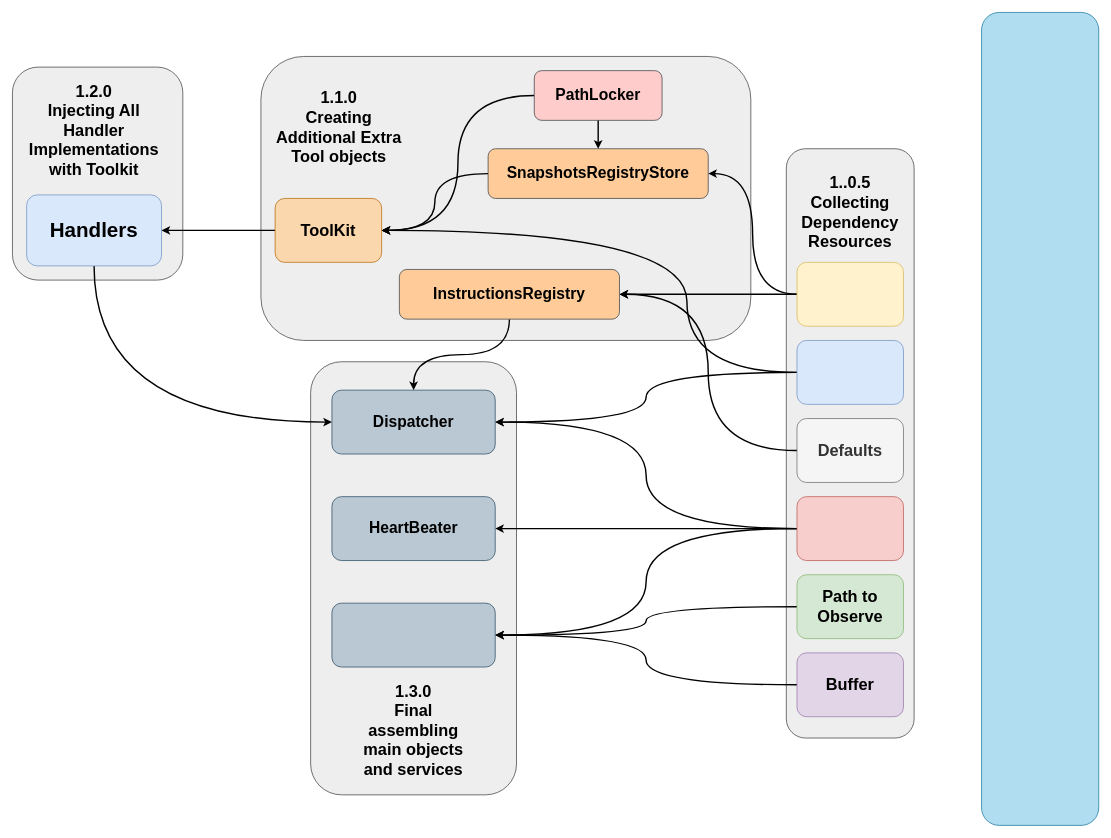
Some shapes in this 1111 by 838 pixel diagram are drawn without their labels. The shapes that lost their labels are listed below. From the top down, each one's centre as x and y in pixels, then its label:
At (x=849, y=294): "Registries Path".
At (x=849, y=372): "Ignore Paths".
At (x=1040, y=418): "Assembly Phase".
At (x=849, y=528): "ShutDown Event".
At (x=413, y=634): "Watcher".
